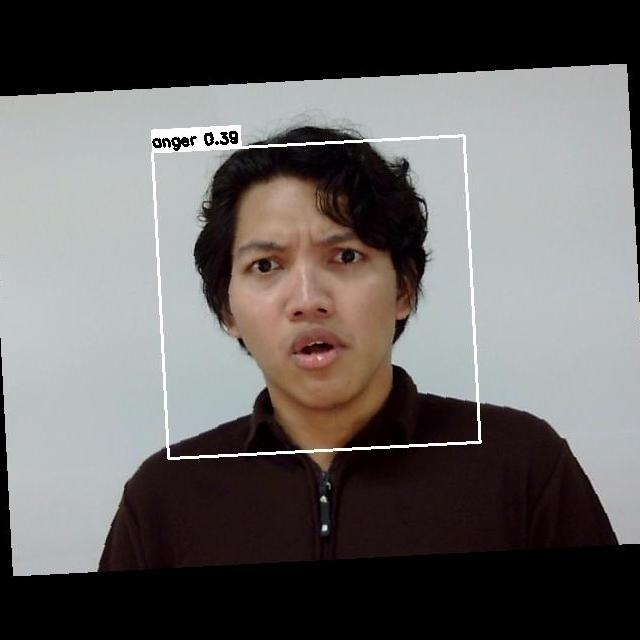Surprised: (225, 211, 405, 387)
